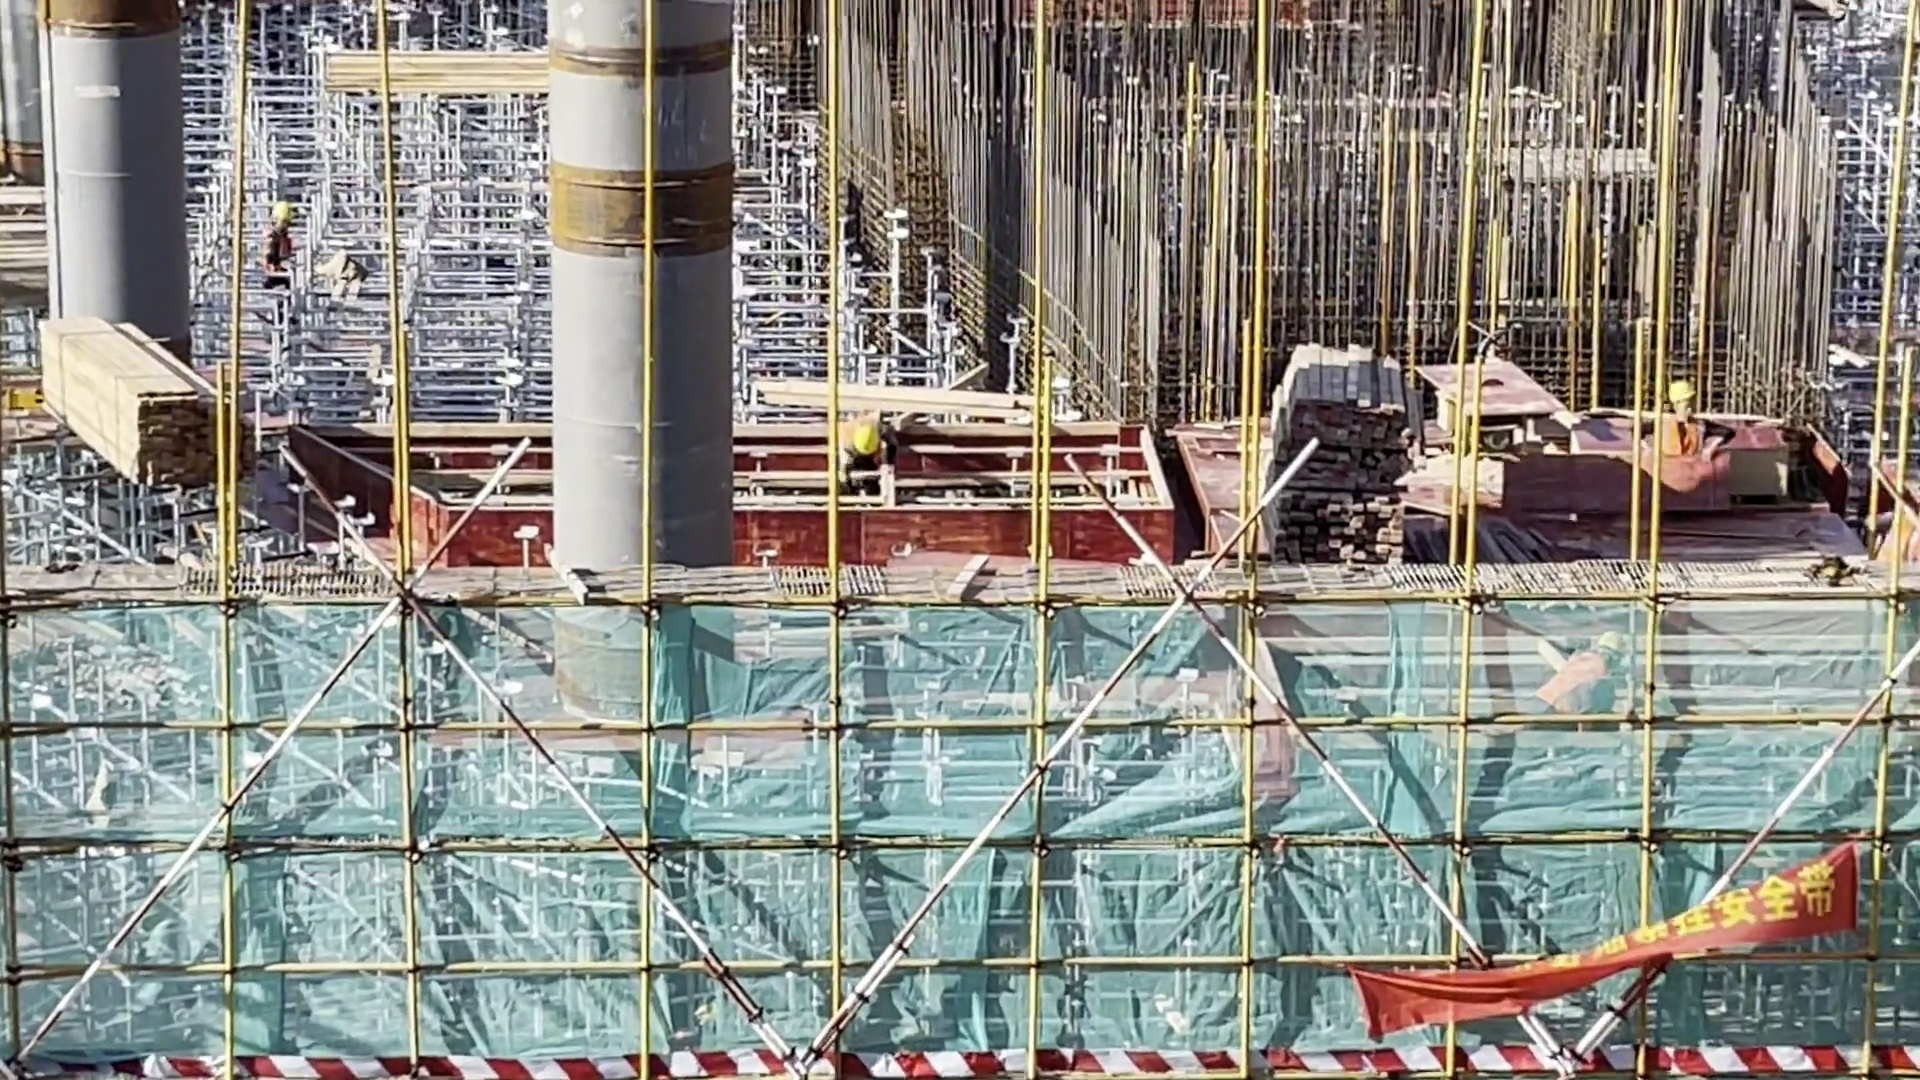helmet: (849, 412, 882, 458), (1663, 380, 1699, 411), (269, 195, 291, 222)
person: (1655, 378, 1718, 464), (832, 417, 888, 482), (259, 200, 297, 294)
wood: (25, 282, 252, 498), (1263, 311, 1419, 576)
